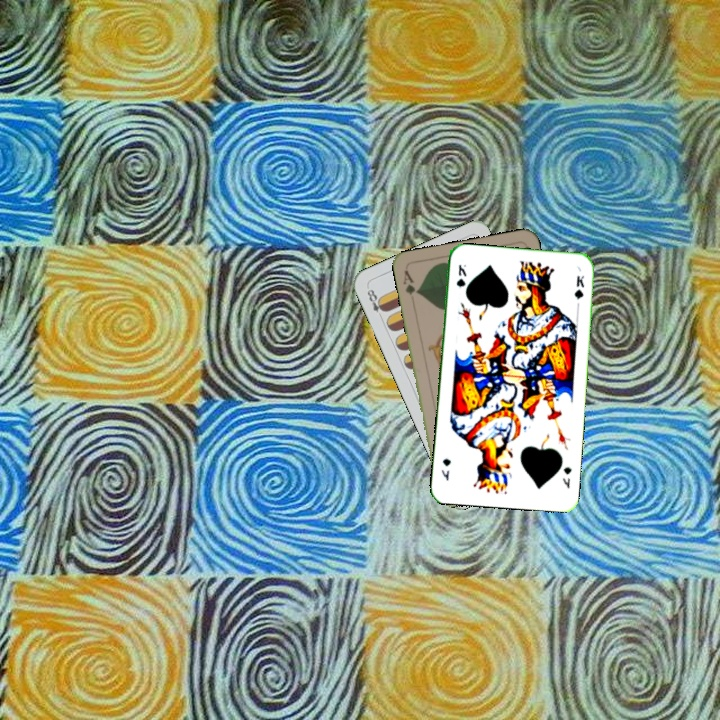E8: (363, 285, 388, 322)
GA: (399, 266, 421, 297)
GK: (453, 260, 469, 291), (559, 463, 574, 491)
